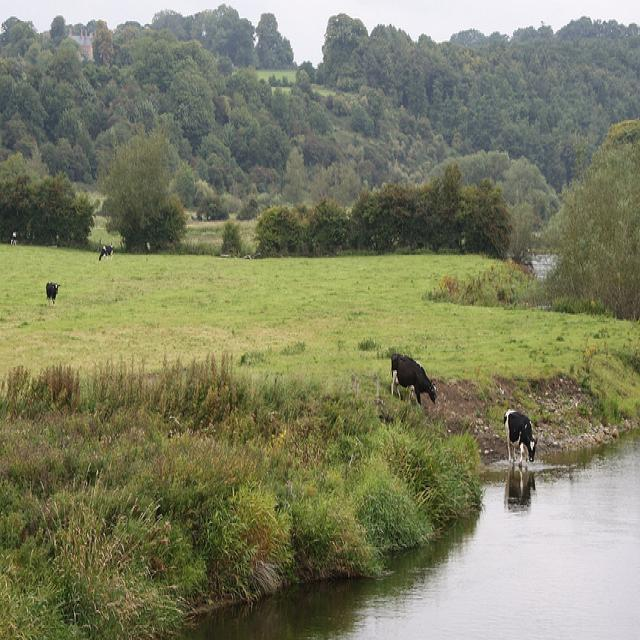cow: (384, 351, 435, 405), (503, 406, 534, 463), (45, 280, 59, 306), (96, 239, 112, 260), (8, 229, 20, 243)
